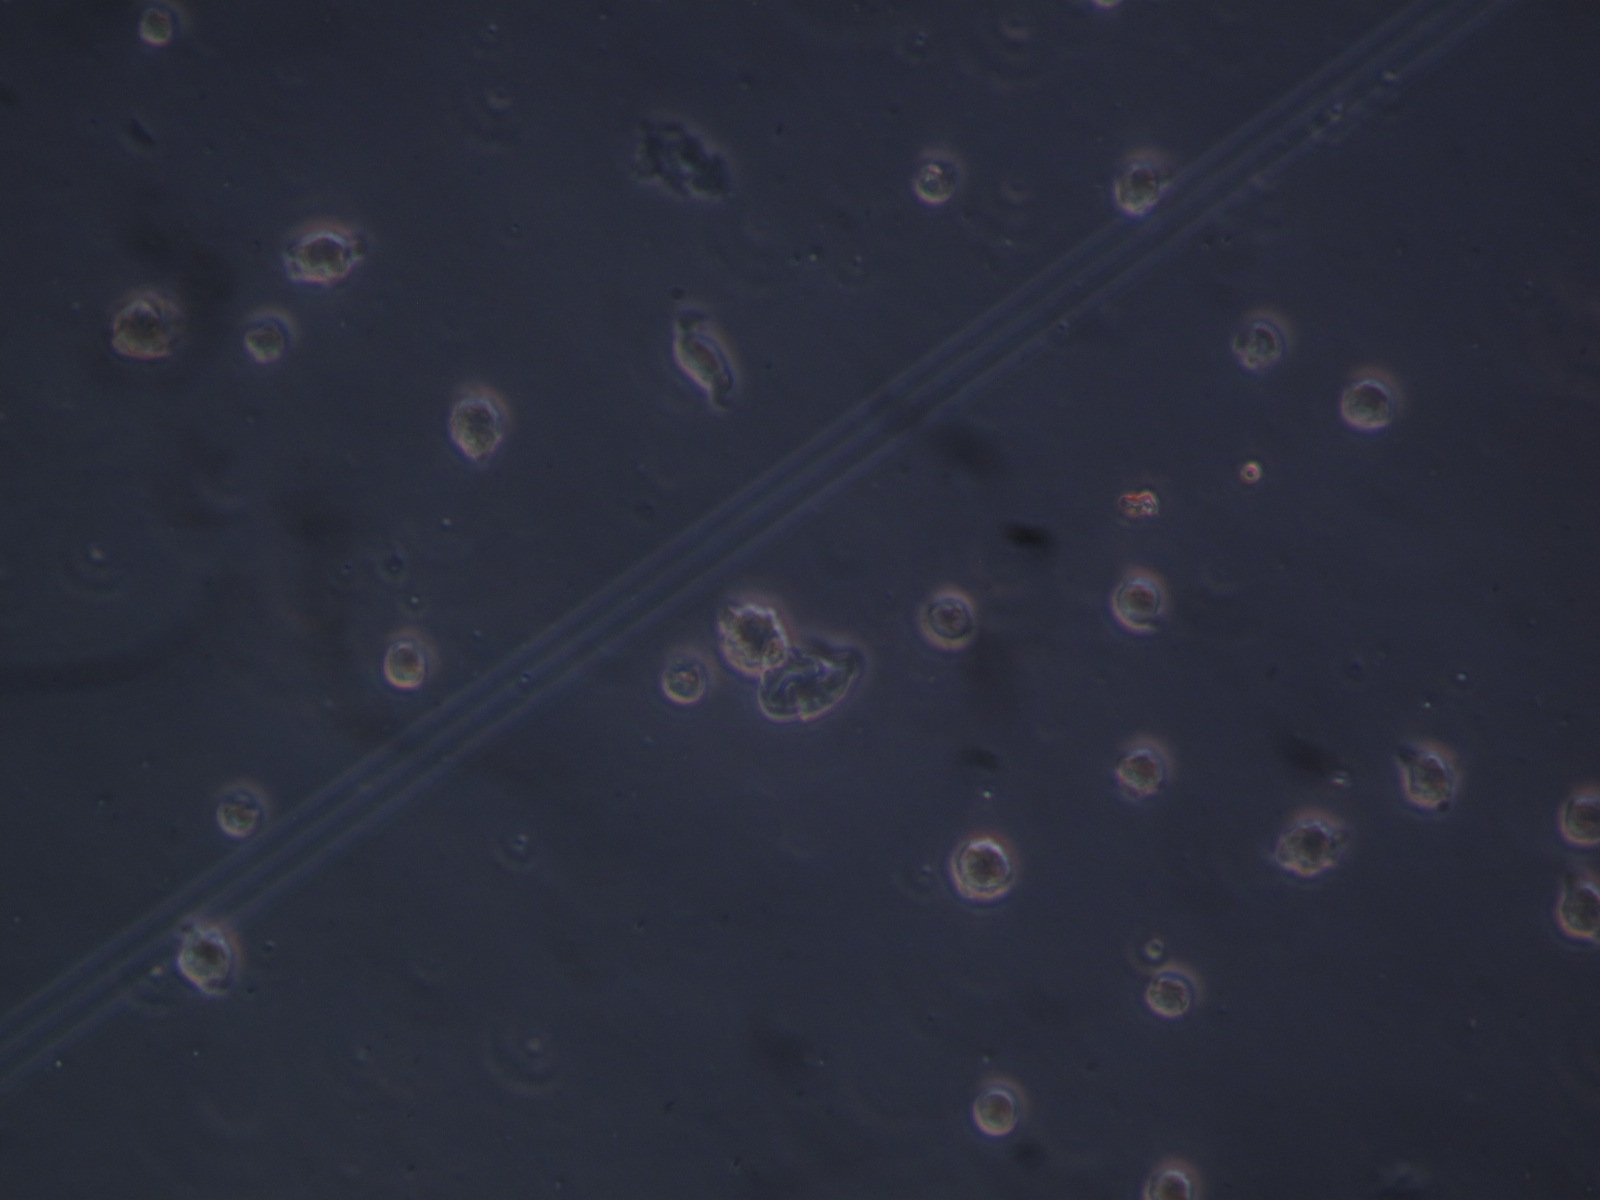hemo: (442, 376, 509, 463), (719, 596, 787, 673), (952, 834, 1022, 903), (1277, 807, 1340, 879), (113, 289, 176, 358), (175, 925, 238, 992), (671, 329, 736, 392), (1340, 366, 1405, 429), (918, 582, 978, 650), (289, 221, 351, 284), (1233, 308, 1296, 369), (1112, 563, 1167, 634), (1400, 742, 1460, 805), (238, 304, 299, 364), (973, 1074, 1029, 1137), (384, 623, 438, 688), (1115, 736, 1170, 797), (1146, 963, 1207, 1018), (215, 779, 271, 838), (663, 647, 714, 710), (913, 145, 968, 204), (1115, 156, 1162, 216), (1557, 876, 1600, 940), (1141, 1158, 1203, 1200), (1558, 787, 1600, 848)
